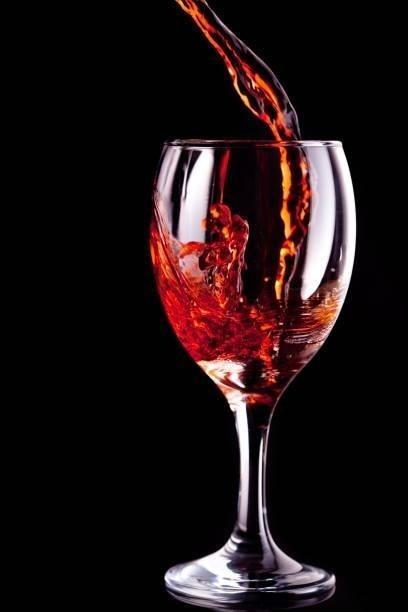glass-wine: (148, 135, 359, 606)
